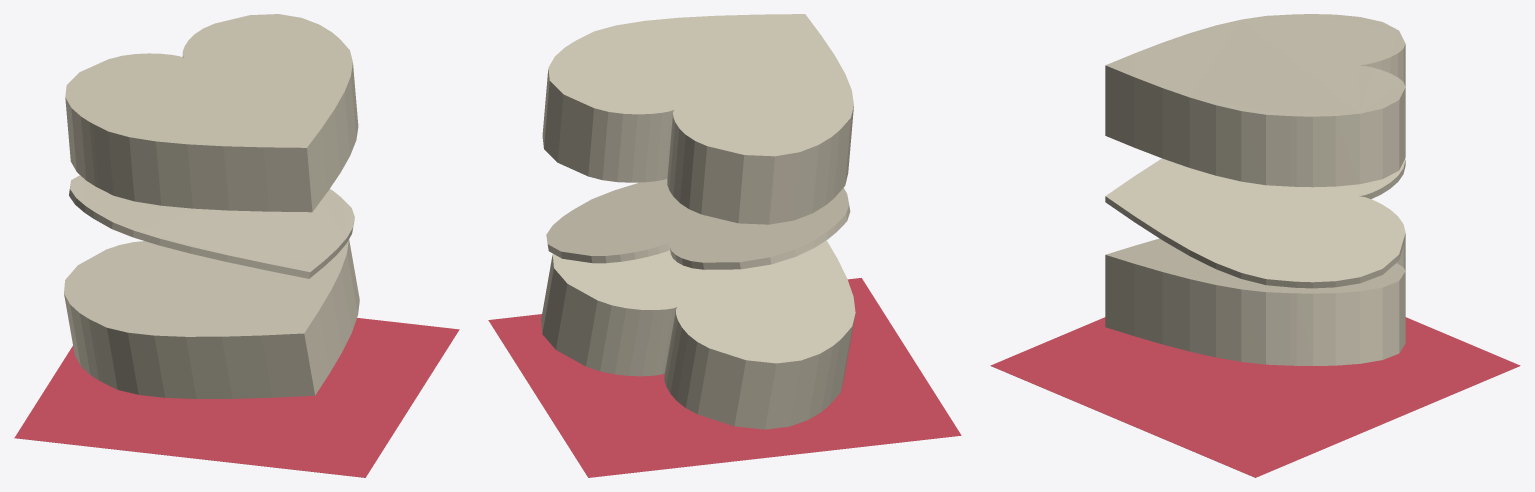
The model's file is VVV.glb.
3 renders of one model, left to right at view 1: azimuth 30°, elevation 25°; view 2: azimuth 150°, elevation 25°; view 3: azimuth 270°, elevation 25°, orthographic. The views are drawn at different scales.
Parts seen in each view (by area): view 1: Mesh_Mesh_head_geo.001_lambert2SG.001; view 2: Mesh_Mesh_head_geo.001_lambert2SG.001; view 3: Mesh_Mesh_head_geo.001_lambert2SG.001.
Boxes of the visible parts, x1,y1,x2,y2 form: Mesh_Mesh_head_geo.001_lambert2SG.001: (14, 14, 459, 477); Mesh_Mesh_head_geo.001_lambert2SG.001: (488, 14, 961, 477); Mesh_Mesh_head_geo.001_lambert2SG.001: (990, 14, 1520, 477).
Size of the model in its own units: 0.0354 by 0.0229 by 0.0354.
